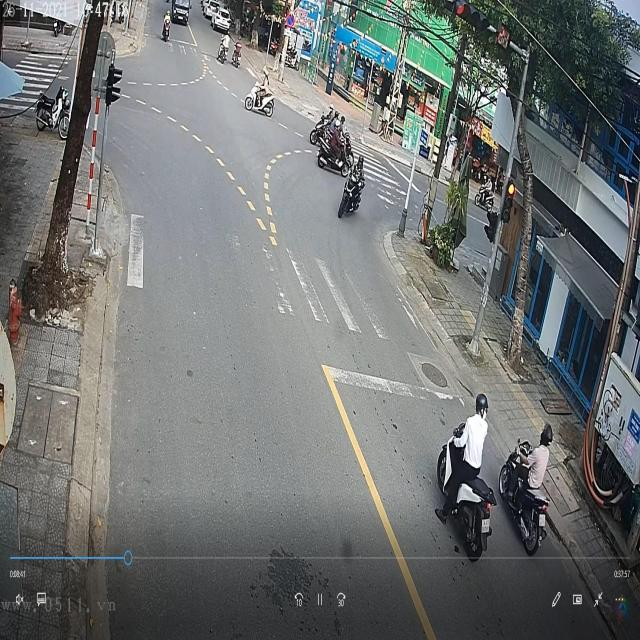car: (170, 2, 189, 24)
motorcycle: (437, 415, 493, 567), (498, 434, 550, 559), (315, 131, 351, 178), (244, 83, 276, 115), (338, 179, 364, 217)
